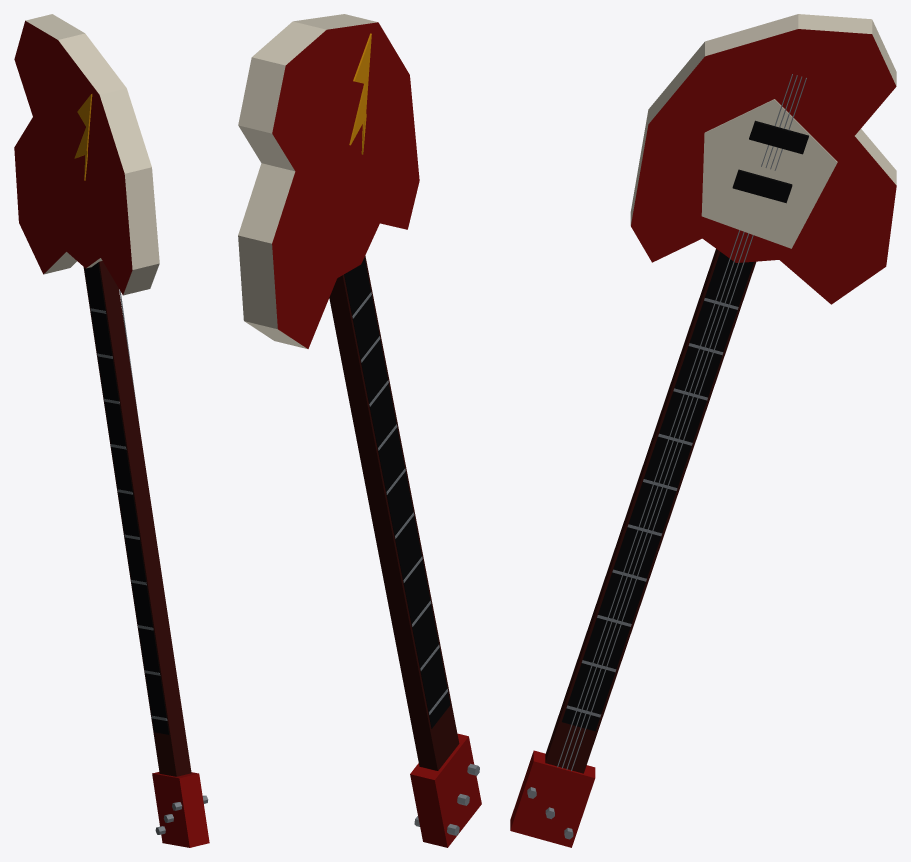
Rendered from SM_Wep_Fun_Guitar.glb.
3 views of the same model, side by side, from view 1: azimuth 30°, elevation 25°; view 2: azimuth 150°, elevation 25°; view 3: azimuth 270°, elevation 25° (orthographic). The views are drawn at different scales.
Visible parts, largest first — view 1: SM_Wep_Fun_Guitar; view 2: SM_Wep_Fun_Guitar; view 3: SM_Wep_Fun_Guitar.
Part boxes in pixels (x1,y1,x2,y2): SM_Wep_Fun_Guitar: [14, 14, 209, 847]; SM_Wep_Fun_Guitar: [238, 14, 481, 847]; SM_Wep_Fun_Guitar: [510, 14, 896, 847].
Bounding box in the file's own units: 0.055 × 1.13 × 0.4807.
Materials: 1 (1 with a texture image).
